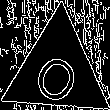O_NE: (28, 37, 86, 104)
